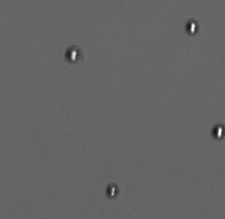Living Cell: (64, 45, 82, 63), (105, 182, 122, 198), (184, 18, 199, 35), (211, 123, 224, 141)
